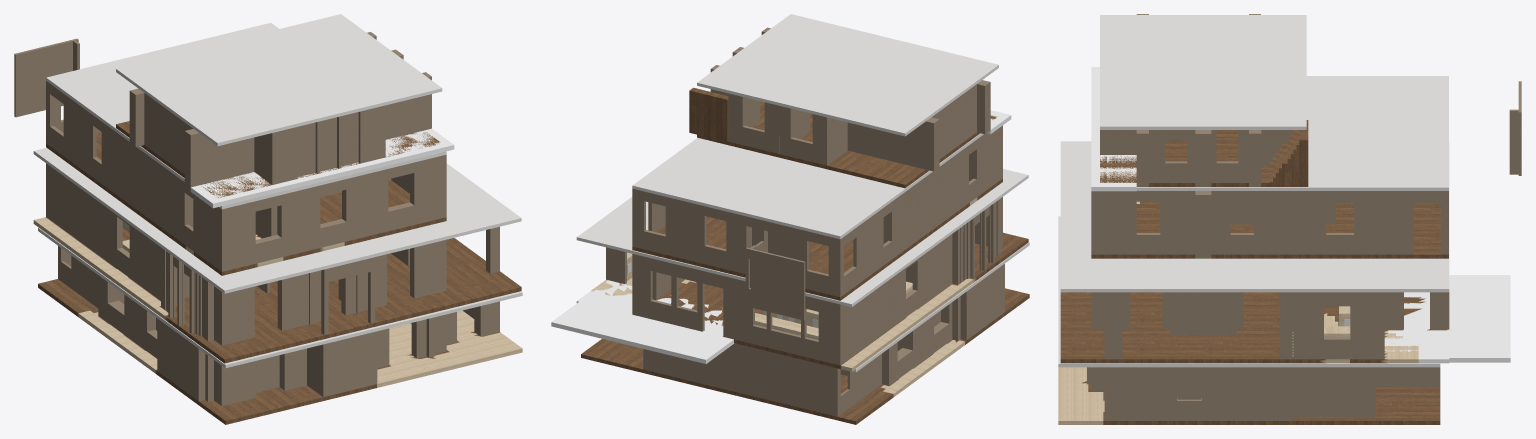
File: a1-building-look.glb
3 renders of one model, left to right at view 1: azimuth 30°, elevation 25°; view 2: azimuth 150°, elevation 25°; view 3: azimuth 270°, elevation 25°, orthographic. The views are drawn at different scales.
Parts seen in each view (by area): view 1: storey_a3, storey_a1, storey_a2, storey_a0; view 2: storey_a2, storey_a3, storey_a1, storey_a0; view 3: storey_a1, storey_a2, storey_a3, storey_a0.
Part boxes in pixels (x1,y1,x2,y2): storey_a3: (116,14,454,208); storey_a1: (33,147,521,363); storey_a2: (14,23,446,275); storey_a0: (38,227,522,424); storey_a2: (632,125,1002,320); storey_a3: (689,14,1011,188); storey_a1: (551,169,1028,371); storey_a0: (581,242,1029,424); storey_a1: (1060,141,1510,363); storey_a2: (1091,76,1521,258); storey_a3: (1091,14,1308,191); storey_a0: (1058,216,1440,424).
Size of the model in its own units: 12.13 by 10.29 by 16.08.
Materials: 12 (6 with a texture image).
